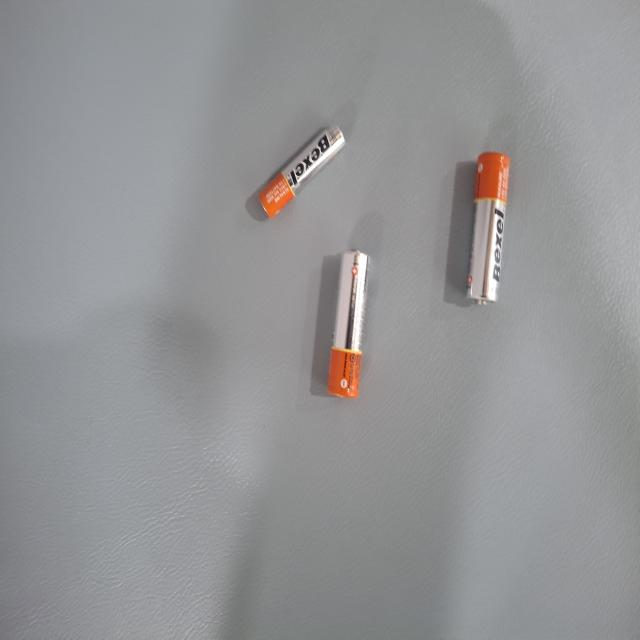AA: (128, 333, 173, 490), (268, 241, 312, 390)
AAA: (294, 421, 383, 516)
